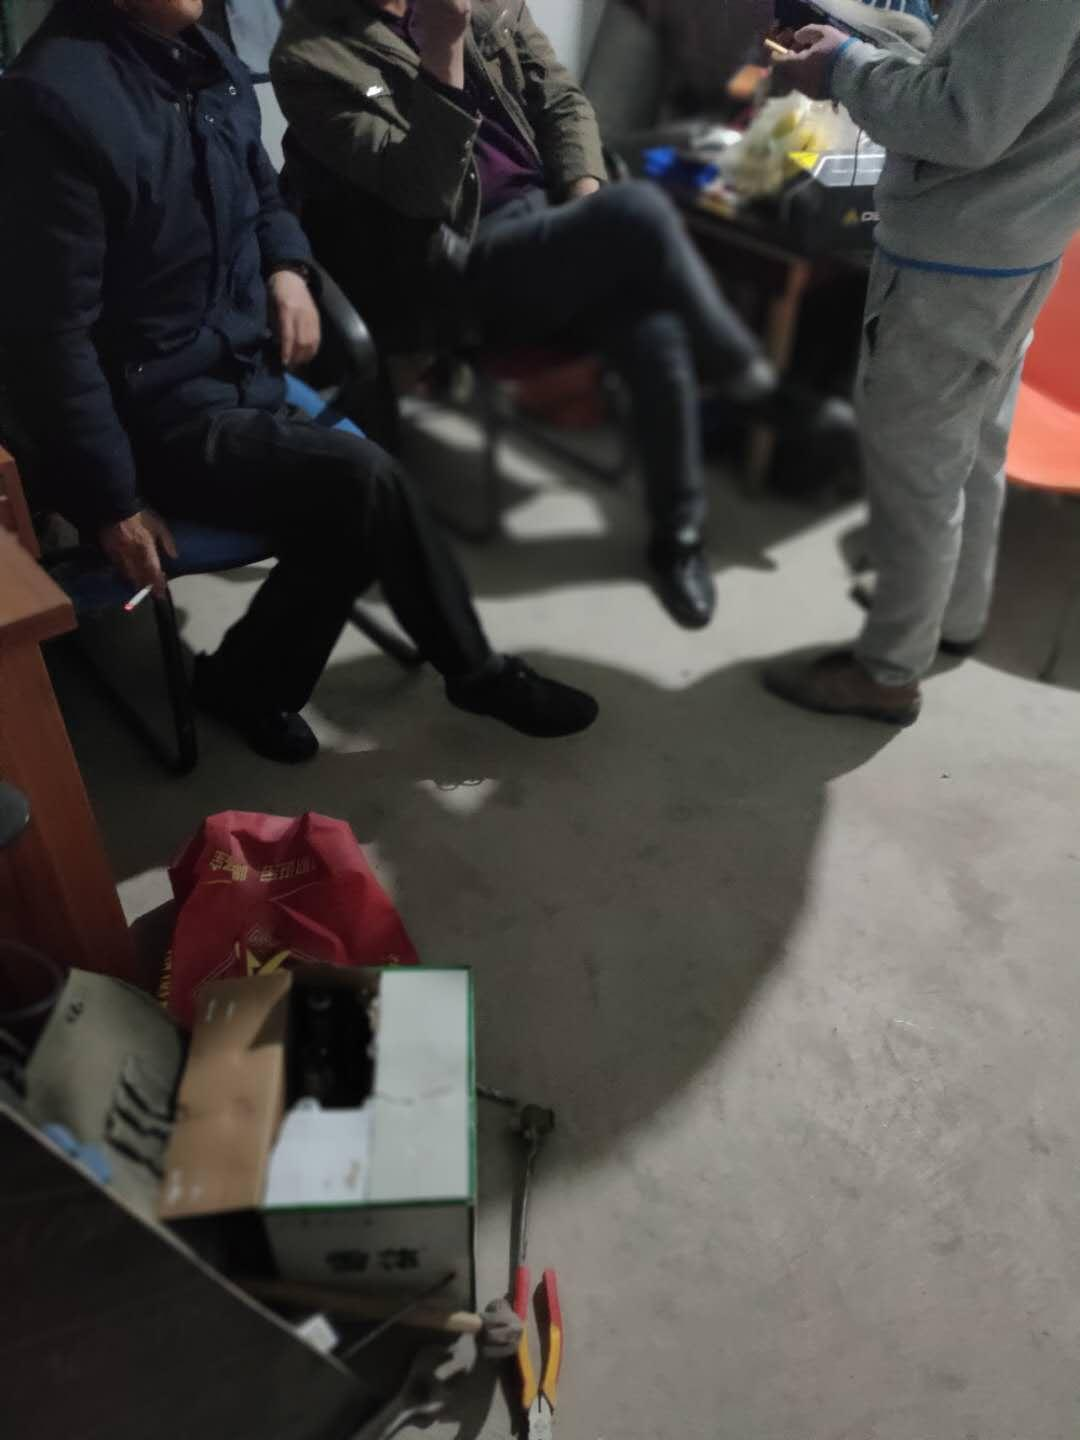Cigarette: (127, 584, 152, 611), (763, 37, 793, 58)
